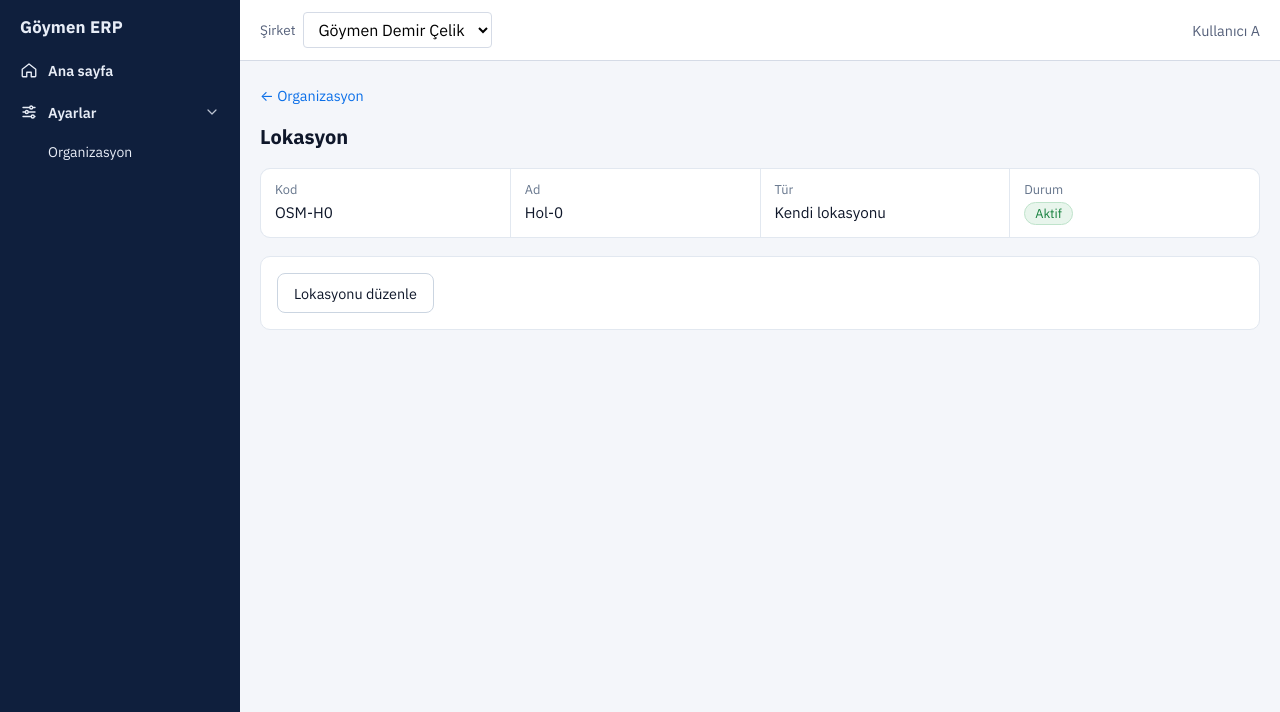
location edit (ORG-02) › after a stale version shows the typed name next to the fresh record, keeps it and saves on the fresh version
The width and height of the screenshot is (1280, 712).
Click the button "Lokasyonu düzenle": (355, 293) x1=277 y1=273 x2=434 y2=313
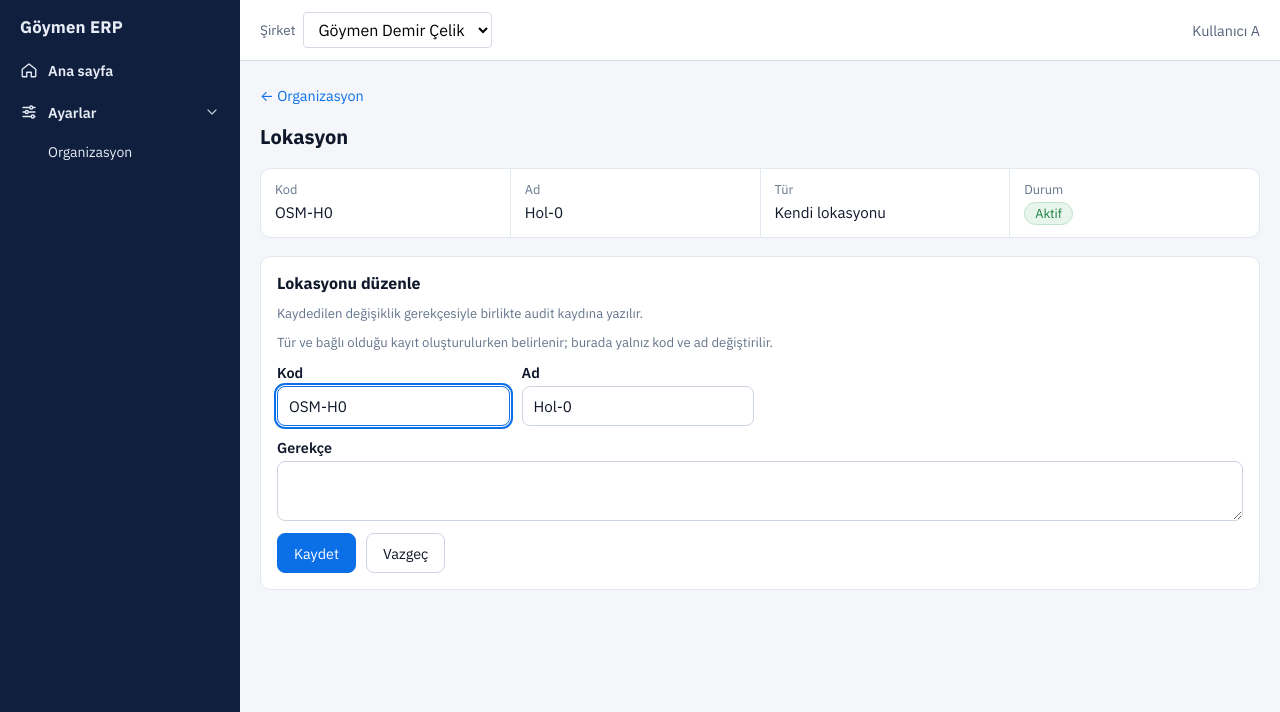
Replace the text in the field labelled "Ad" with "Hol-0 Boya": (638, 406) x1=522 y1=386 x2=754 y2=426
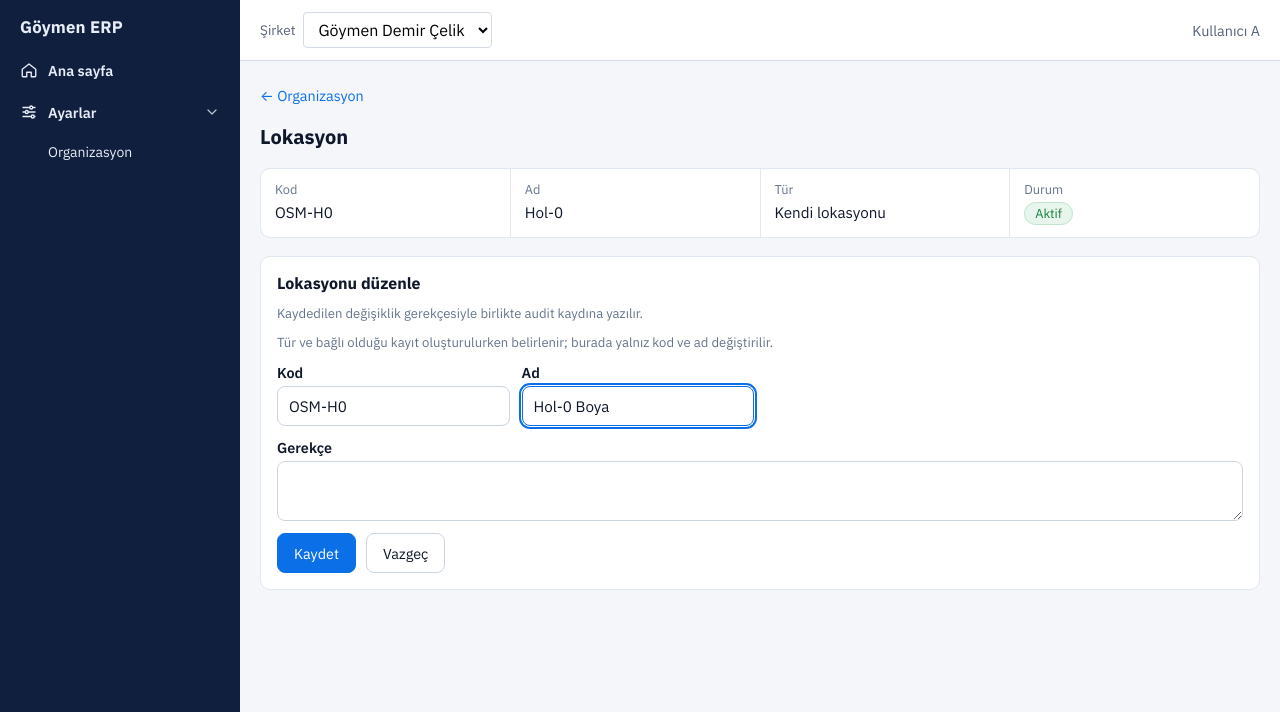
In the text box labelled "Gerekçe": (760, 491) x1=277 y1=461 x2=1243 y2=521, type "Ad netleştirildi"
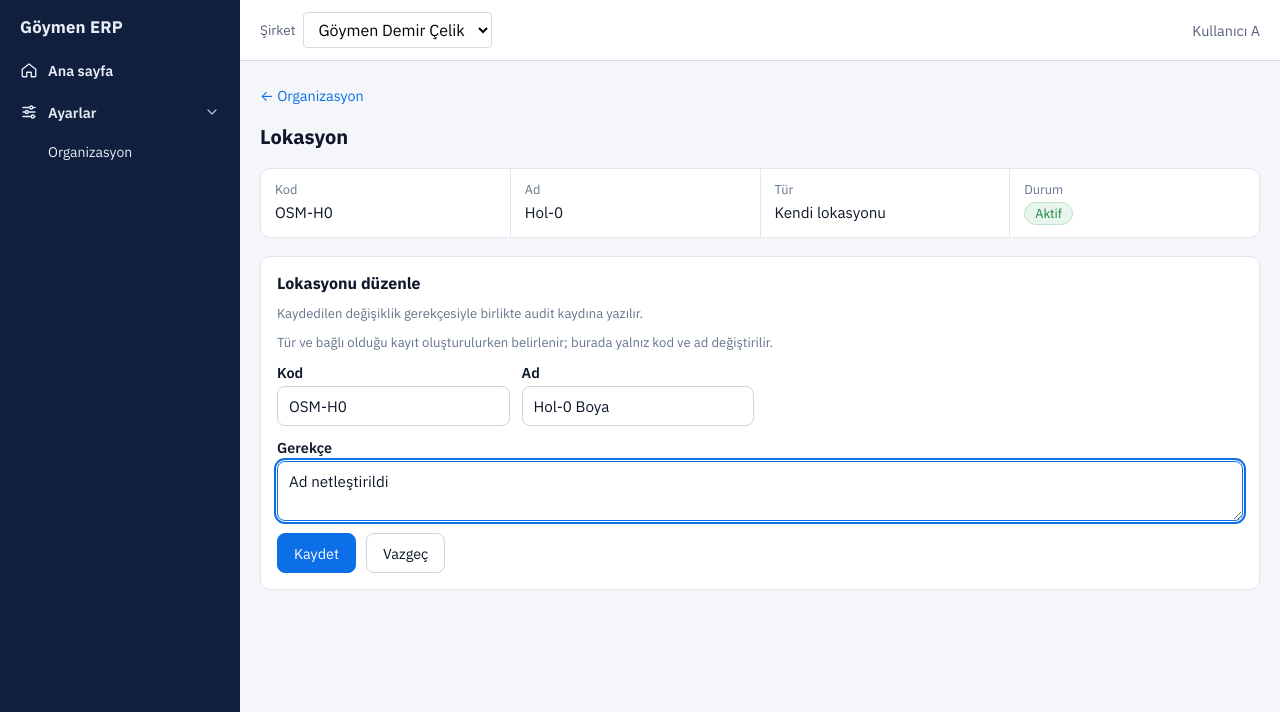
Click the button "Kaydet": (316, 553) x1=277 y1=533 x2=356 y2=573
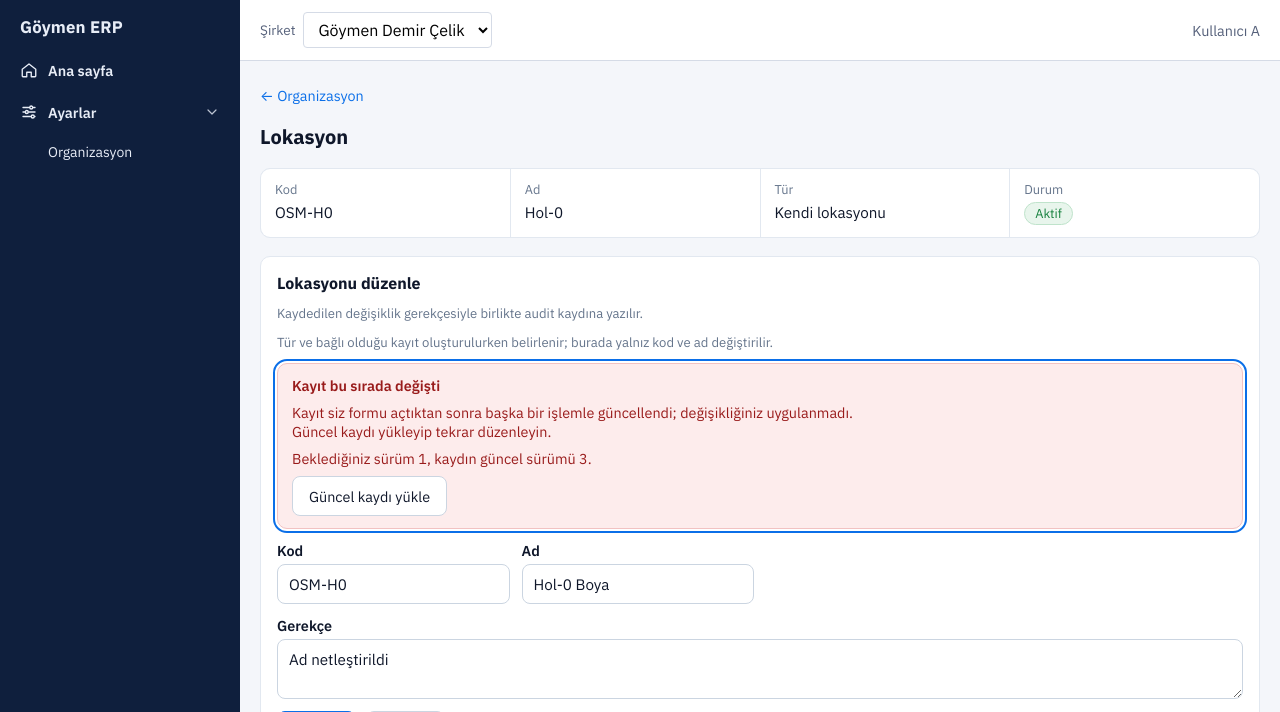
Click the button "Güncel kaydı yükle": (370, 496) x1=292 y1=476 x2=447 y2=516
(page scrolled)
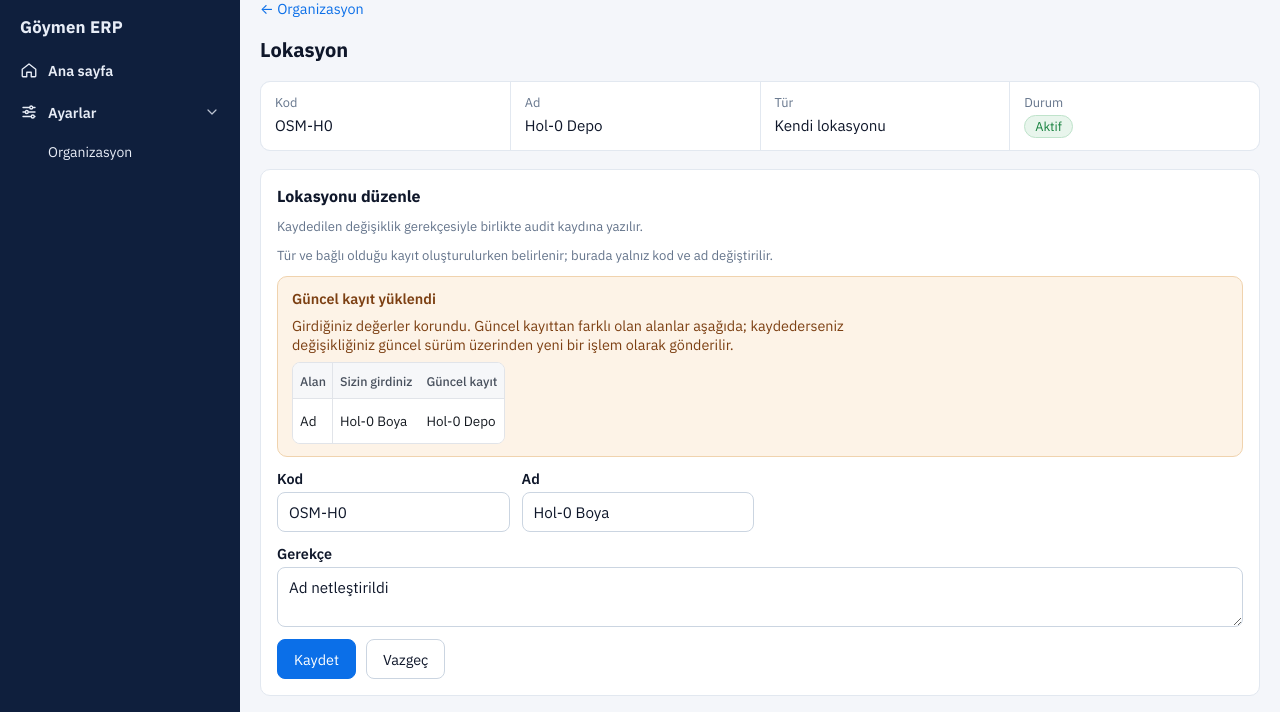
Expected: the cells read "Ad", "Hol-0 Boya", "Hol-0 Depo", in this order, x1=293 y1=399 x2=333 y2=443; x1=333 y1=399 x2=420 y2=443; x1=420 y1=399 x2=504 y2=443
Click the button "Kaydet": (316, 659) x1=277 y1=639 x2=356 y2=679
(page scrolled)
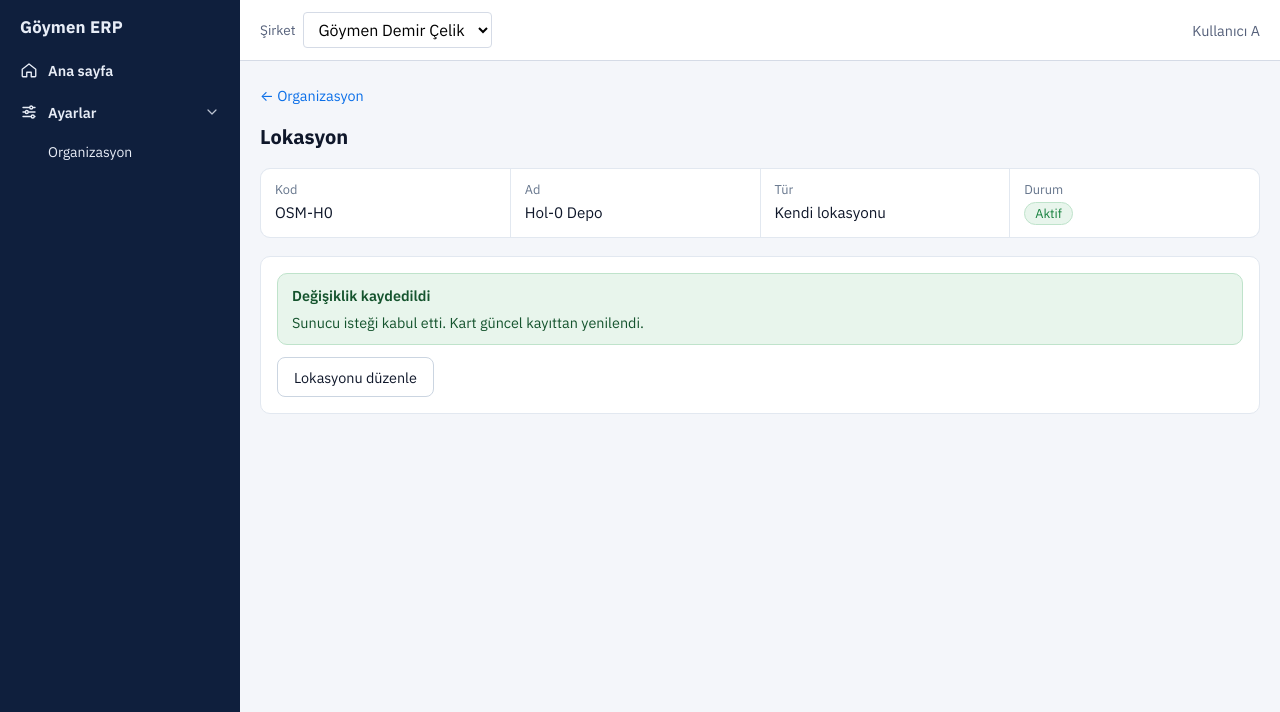
Expected: the text "Değişiklik kaydedildi" is shown, x1=292 y1=286 x2=430 y2=305
